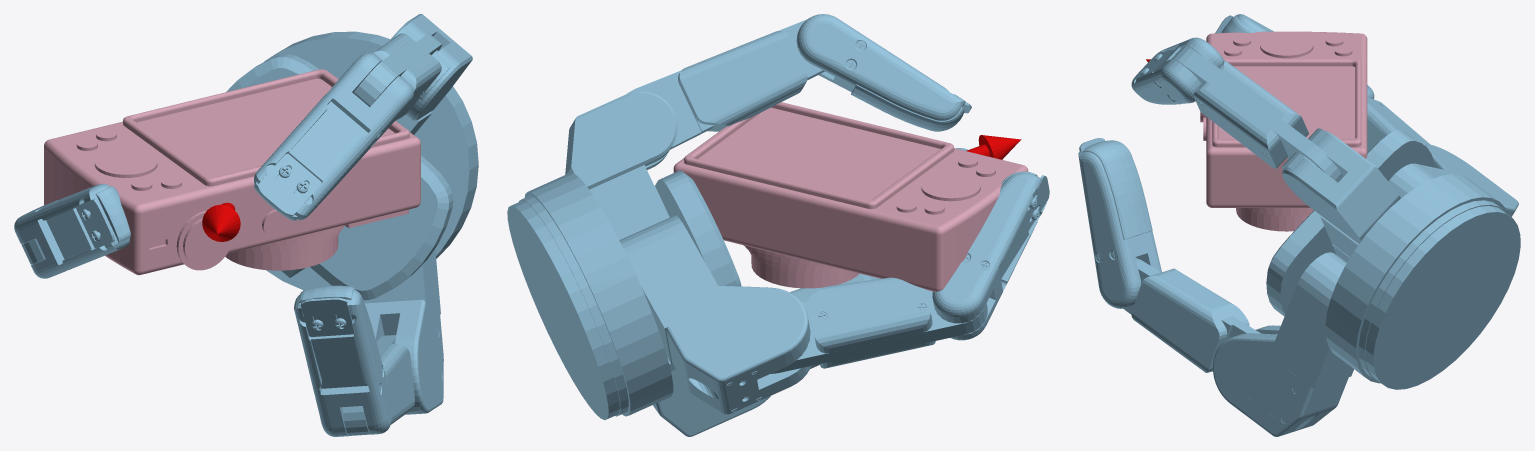
3 views of the same model, side by side, from view 1: azimuth 30°, elevation 25°; view 2: azimuth 150°, elevation 25°; view 3: azimuth 270°, elevation 25° (orthographic). The views are drawn at different scales.
Visible parts, largest first — view 1: world, camera.stl; view 2: world, camera.stl; view 3: world, camera.stl.
Part boxes in pixels (x1,y1,x2,y2): world: [14, 14, 478, 436]; camera.stl: [44, 69, 420, 275]; world: [507, 14, 1049, 436]; camera.stl: [673, 102, 1028, 291]; world: [1078, 14, 1520, 436]; camera.stl: [1200, 31, 1367, 231].
Bounding box in the file's own units: 0.1879 × 0.1573 × 0.1777.
